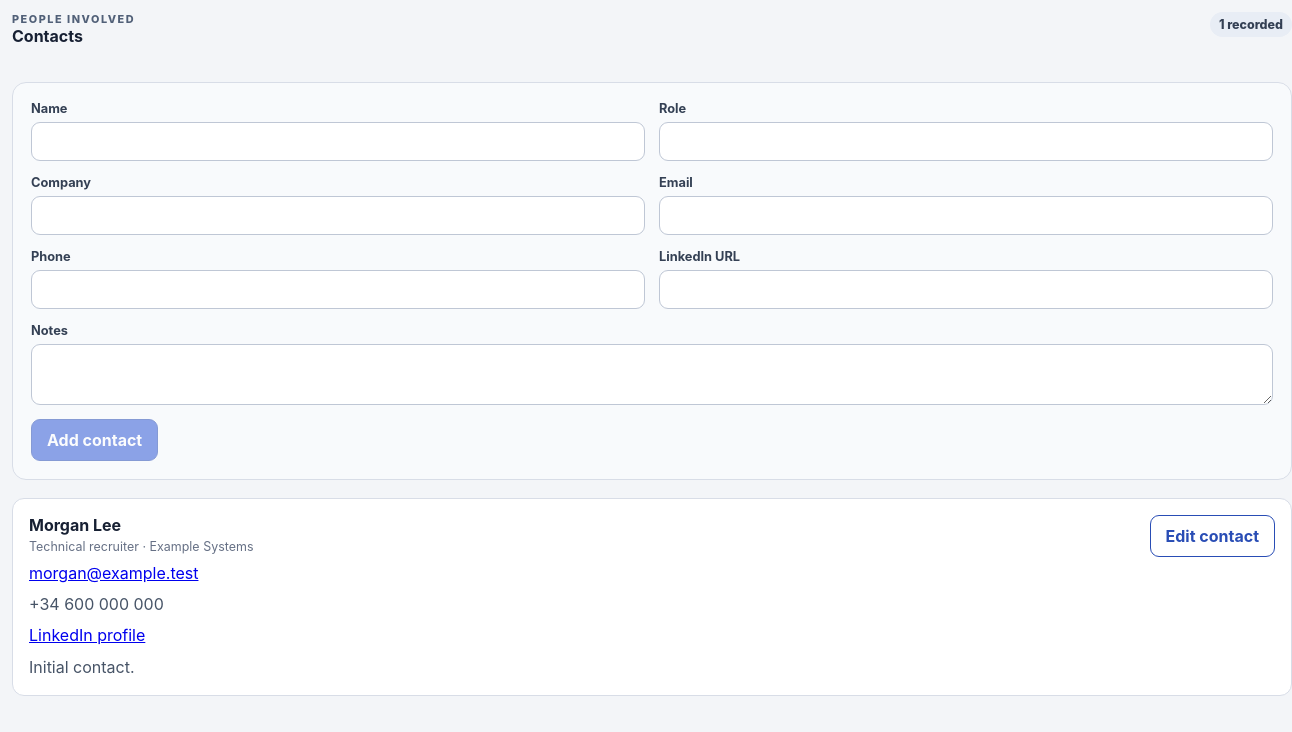
Test: ApplicationContacts › edits a persisted contact, reloads it, and resets edit state
expect the text "Technical recruiter · Example Systems" is shown: met, box [29, 539, 254, 554]
Click the button "Edit contact": (1212, 536) [1150, 515, 1275, 557]
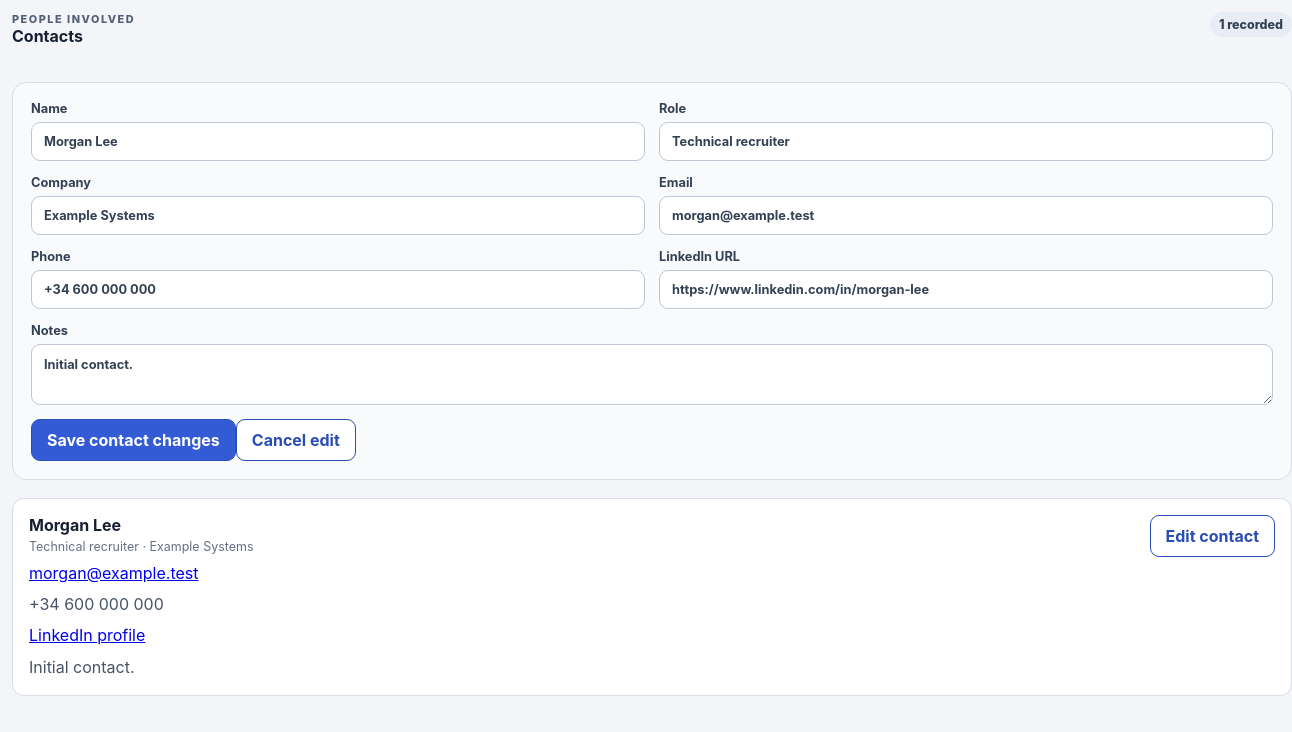
Replace the text in the field labelled "Role" with "Senior technical recruiter": (966, 142) [659, 122, 1273, 161]
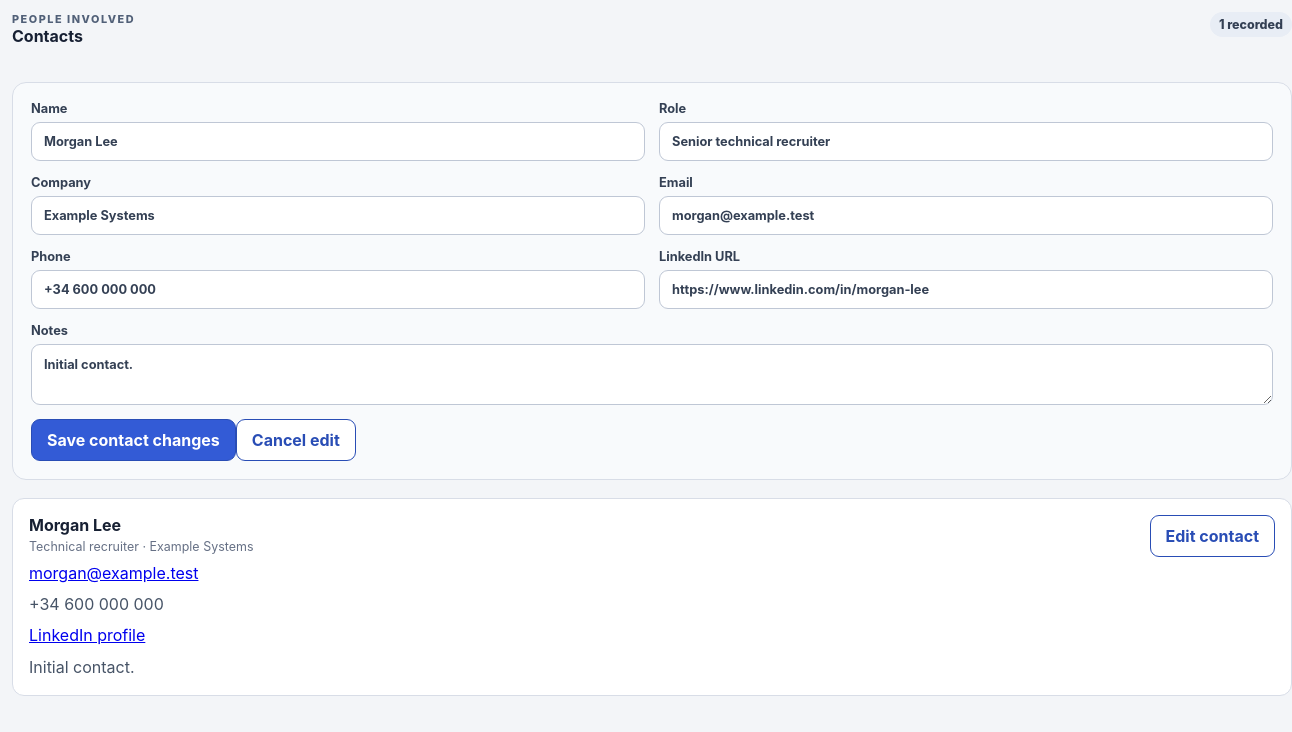
Click the button "Save contact changes": (133, 440) [31, 419, 236, 461]
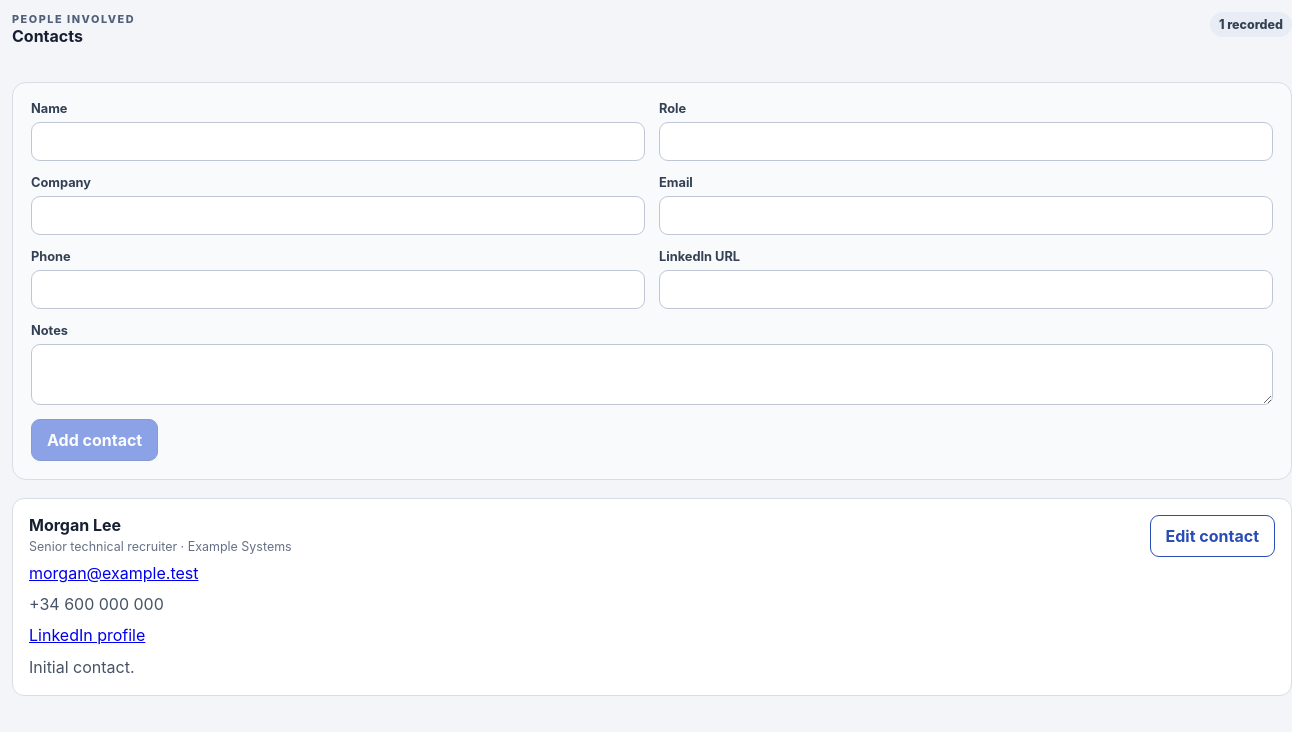
expect the text "Senior technical recruiter · Example Systems" is shown: met, box [29, 539, 292, 554]
expect the button "Add contact" is shown: met, box [31, 419, 158, 461]
